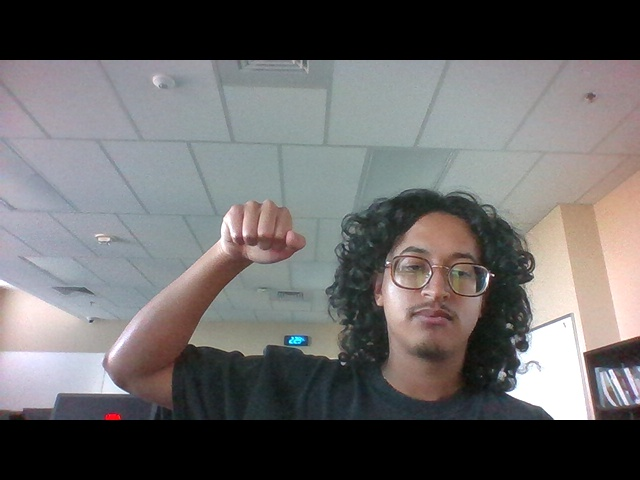yes: (204, 185, 320, 287)
